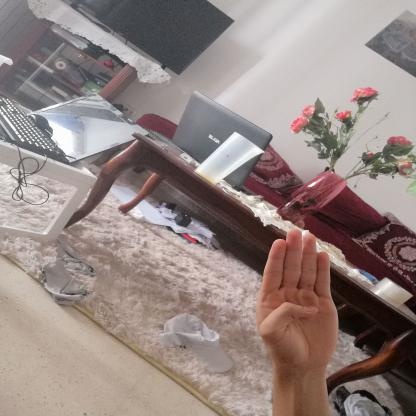KAAF: (241, 219, 352, 382)
